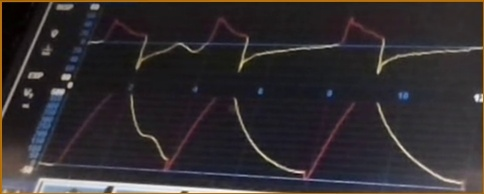Ineffective_effort Flow: (90, 13, 481, 76)
Ineffective_effort Volume: (42, 95, 468, 191)
